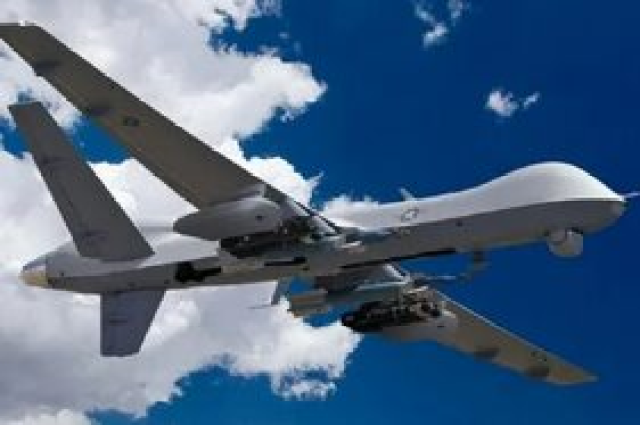military drone: (0, 22, 640, 384)
